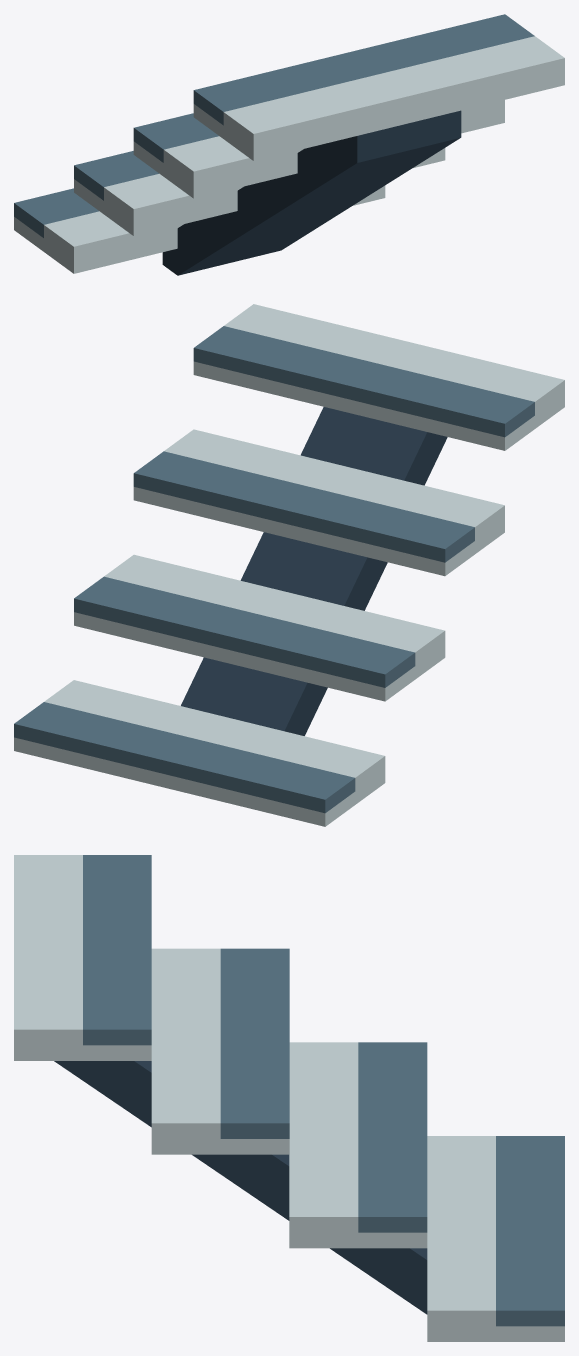
Rendered from stairs_short.glb.
The picture shows the model from 3 angles, top to bottom: view 1: azimuth 30°, elevation 25°; view 2: azimuth 150°, elevation 25°; view 3: azimuth 270°, elevation 25°; orthographic projection. The views are drawn at different scales.
Parts seen in each view (by area): view 1: stairs_short; view 2: stairs_short; view 3: stairs_short.
Part boxes in pixels (left/top/right/bottom): stairs_short: left=14, top=14, right=564, bottom=275; stairs_short: left=14, top=304, right=564, bottom=826; stairs_short: left=14, top=855, right=564, bottom=1341.
Bounding box in the file's own units: 0.3 × 0.275 × 0.4.
